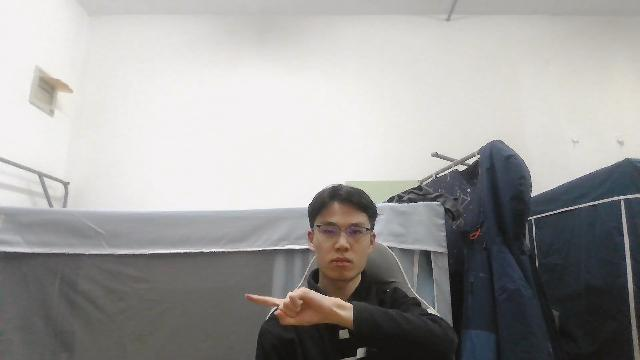one: (242, 286, 358, 329)
